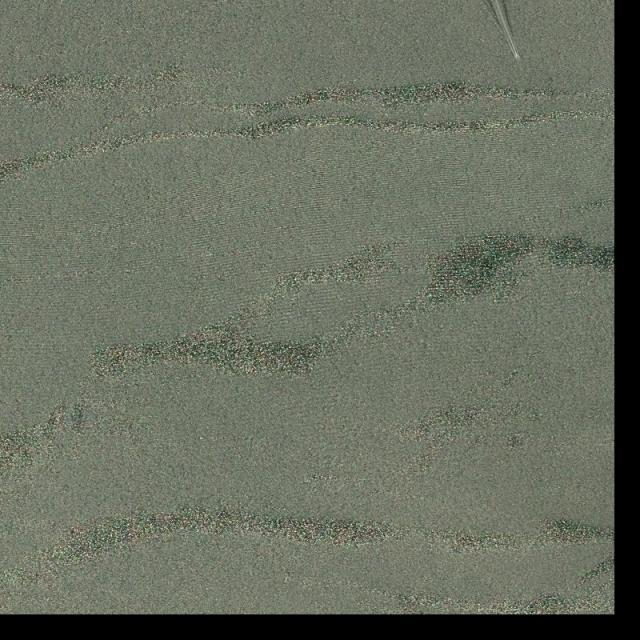ship: (516, 56, 520, 60)
